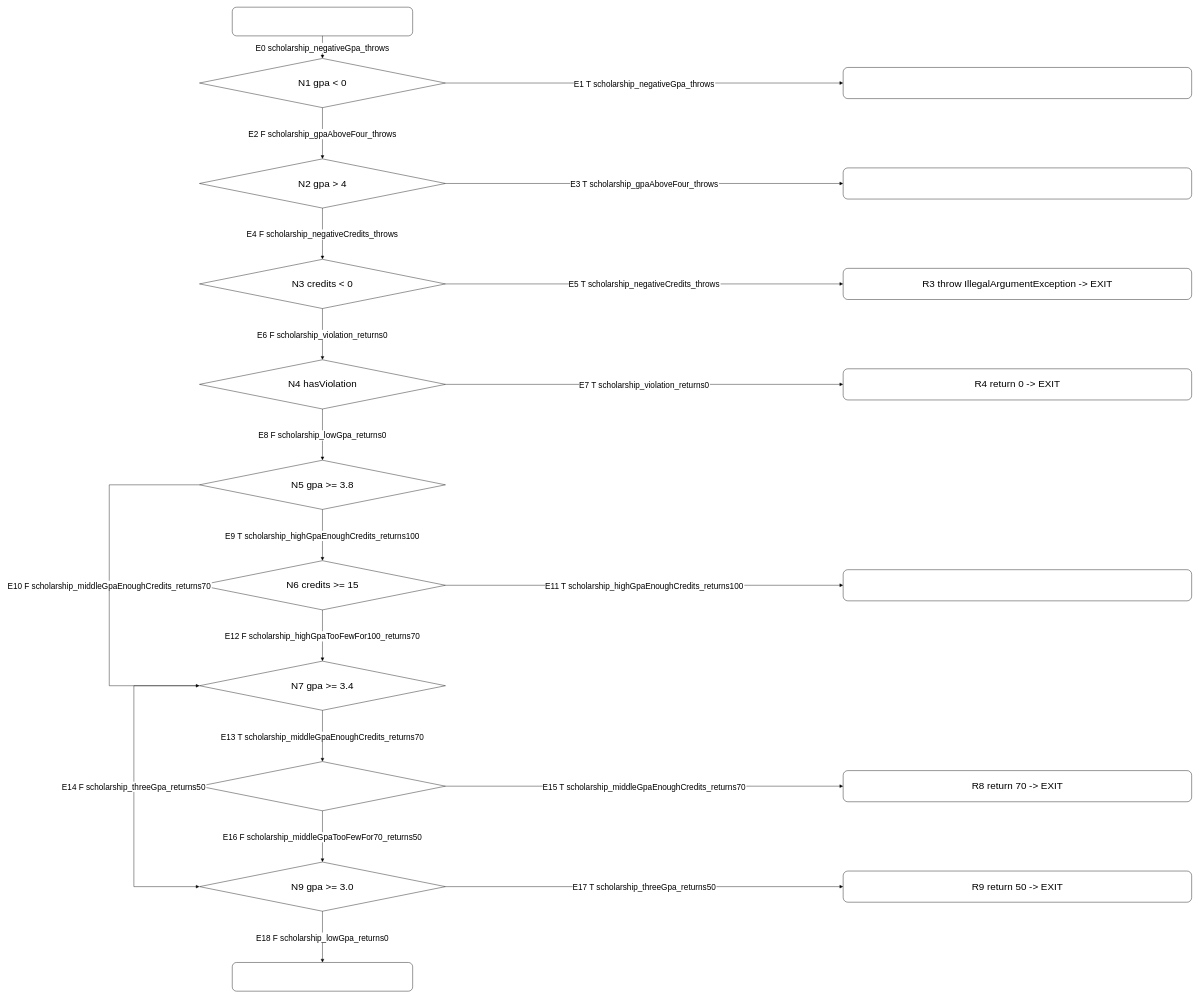
Image size: 1199x998. Some labels were removed from this diagram. The centre of each missing label's shape, as x and y in pixels:
"N0 Entry" belongs at pixel 322 21.
"N8 credits >= 12" belongs at pixel 322 786.
"R1 throw IllegalArgumentException -> EXIT" belongs at pixel 1017 83.
"R10 return 0 -> EXIT" belongs at pixel 322 976.
"R2 throw IllegalArgumentException -> EXIT" belongs at pixel 1017 183.
"R6 return 100 -> EXIT" belongs at pixel 1017 585.
